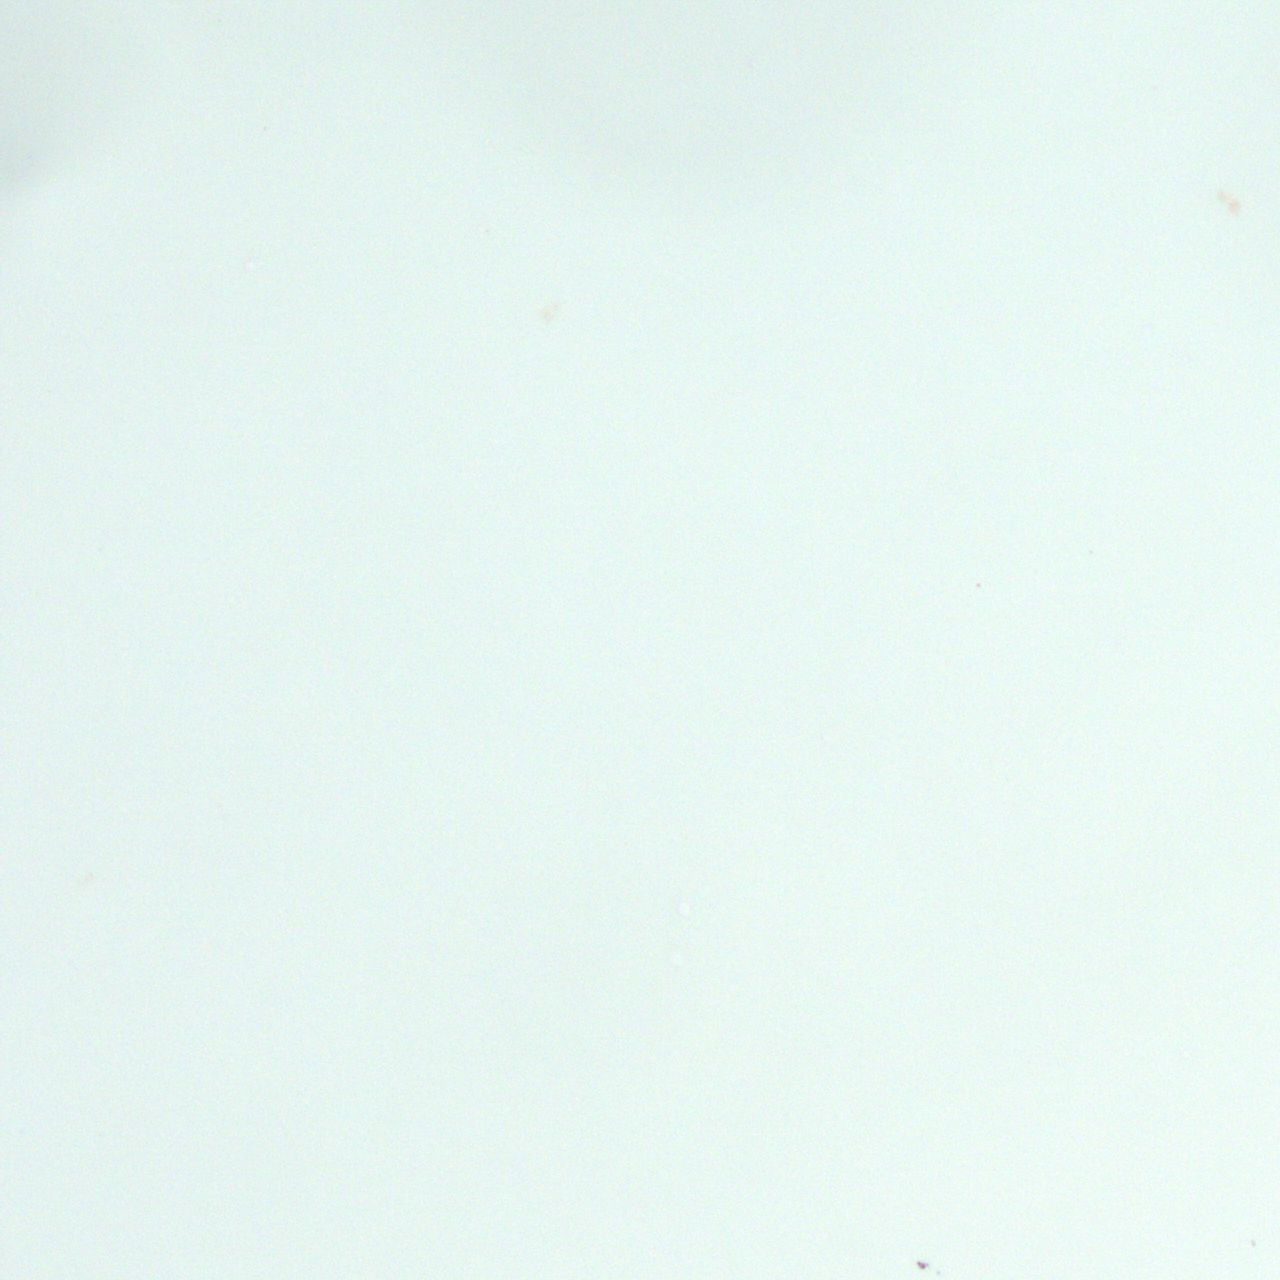dust: (915, 1261, 930, 1269)
